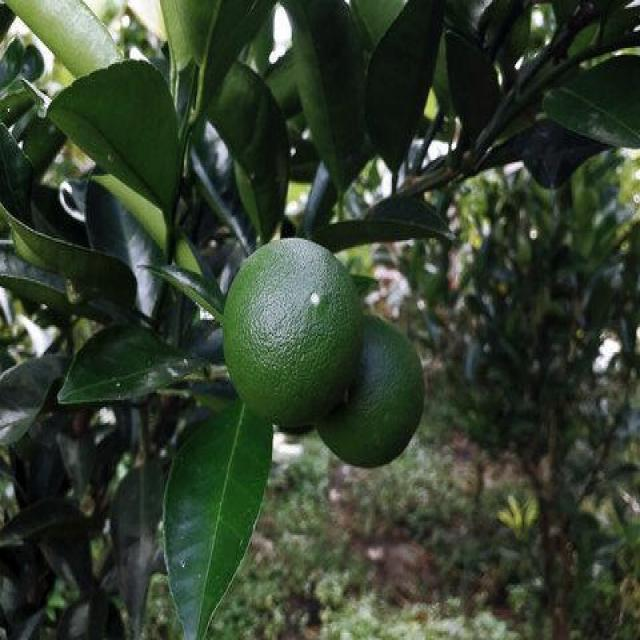Jeruk Belum Matang: (222, 238, 366, 428), (316, 308, 427, 472)
